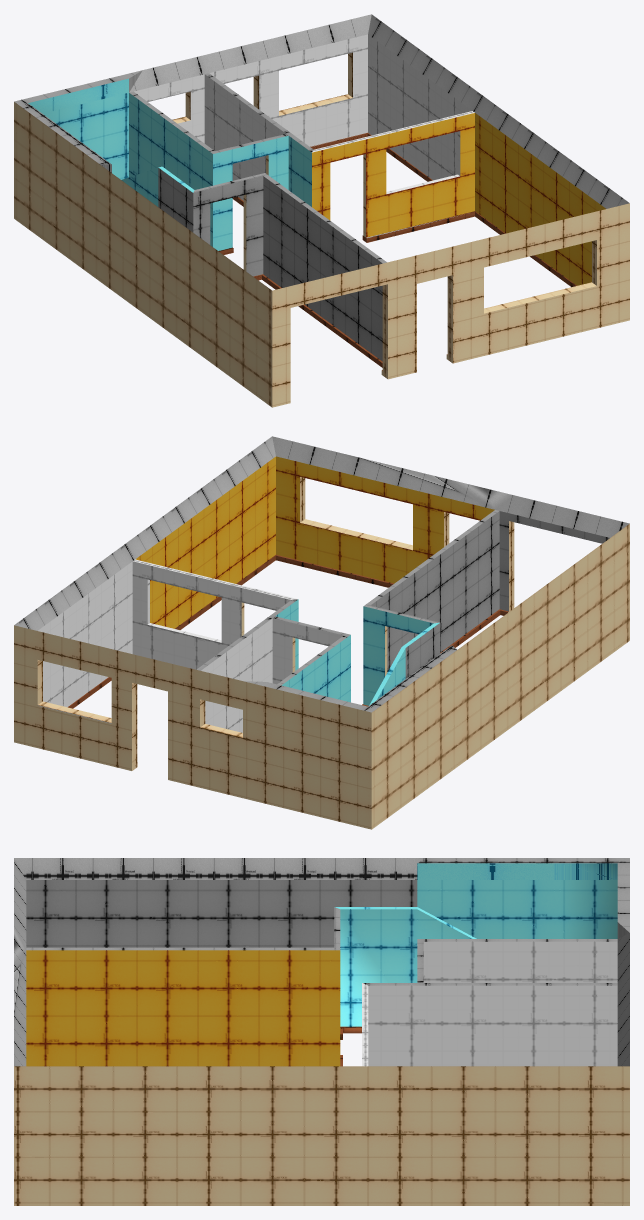
The model's file is Casa_INTERIOR_planta_baja.fbx.
3 renders of one model, top to bottom at view 1: azimuth 30°, elevation 25°; view 2: azimuth 150°, elevation 25°; view 3: azimuth 270°, elevation 25°, orthographic. The views are drawn at different scales.
Parts seen in each view (by area): view 1: Casa_INTERIOR_planta_baja; view 2: Casa_INTERIOR_planta_baja; view 3: Casa_INTERIOR_planta_baja.
Boxes of the visible parts, box(x1,y1,x2,y2) form: Casa_INTERIOR_planta_baja: box(14, 14, 629, 407); Casa_INTERIOR_planta_baja: box(14, 436, 629, 829); Casa_INTERIOR_planta_baja: box(14, 858, 629, 1205).
Size of the model in its own units: 10.38 by 3.25 by 12.97.
